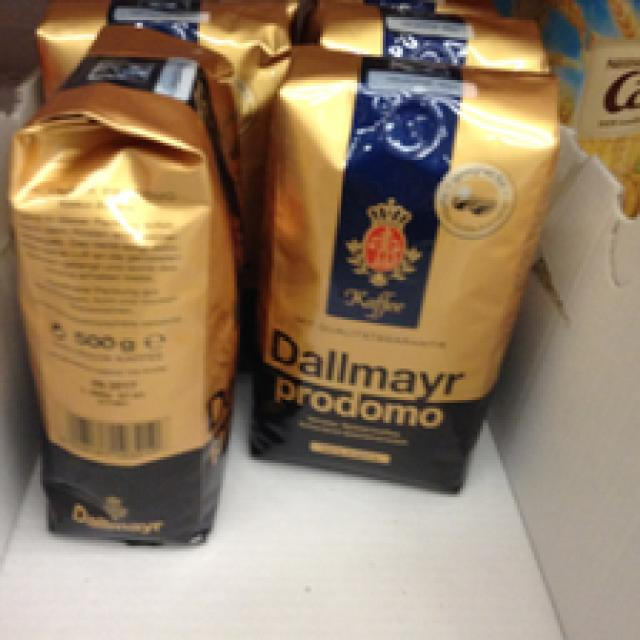groceries: (246, 43, 560, 494), (9, 26, 234, 543)
